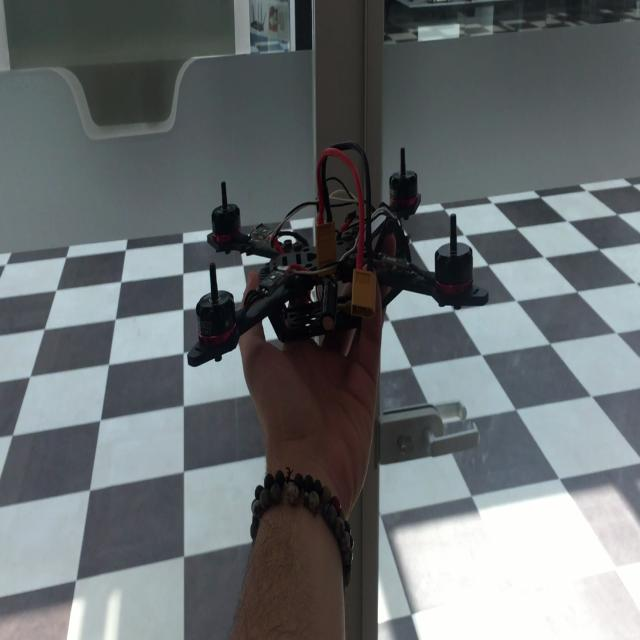drone: (180, 150, 496, 366)
